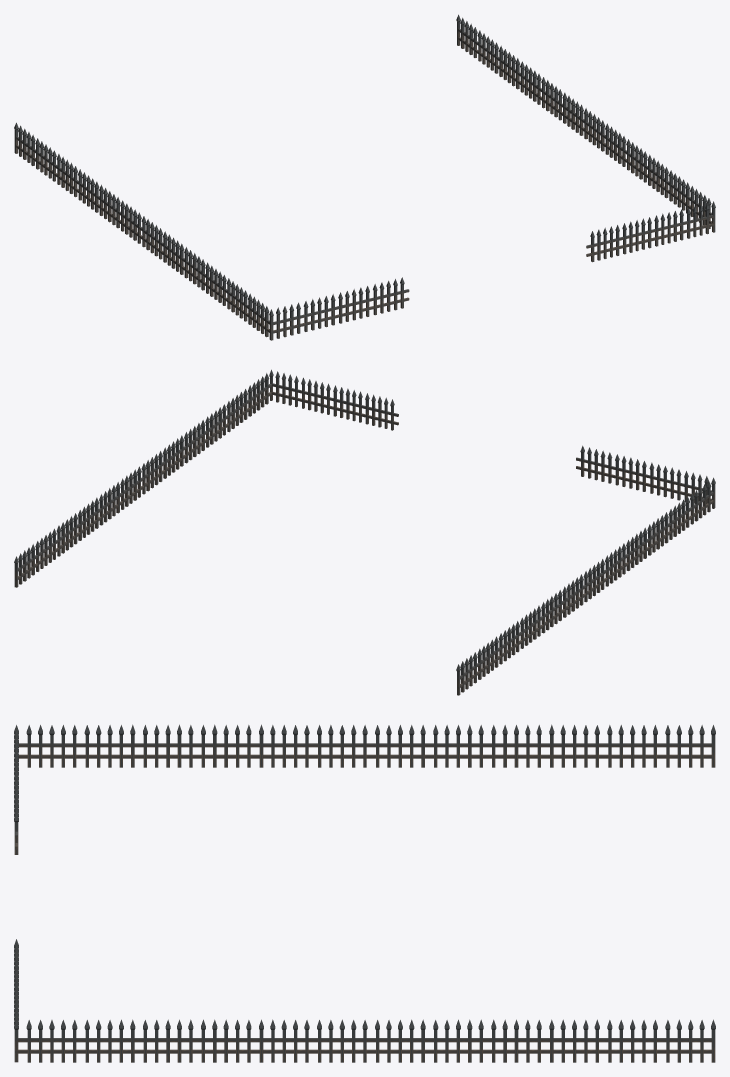
The model's file is Fences.fbx.
3 views of the same model, one above another, from view 1: azimuth 30°, elevation 25°; view 2: azimuth 150°, elevation 25°; view 3: azimuth 270°, elevation 25° (orthographic). The views are drawn at different scales.
Parts seen in each view (by area): view 1: Fences; view 2: Fences; view 3: Fences.
Boxes of the visible parts, bbox=[...] form: Fences: bbox=[14, 14, 715, 340]; Fences: bbox=[14, 369, 715, 695]; Fences: bbox=[14, 724, 715, 1062].
Size of the model in its own units: 24.96 by 1.67 by 24.94.
